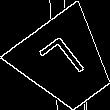L_SE: (37, 34, 93, 92)
